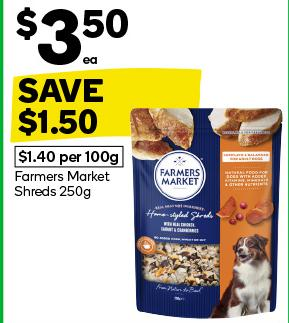description_block: (13, 169, 116, 207)
price_main: (8, 1, 161, 69)
promo_text_block: (5, 73, 147, 141)
unit_price_block: (10, 143, 130, 170)
